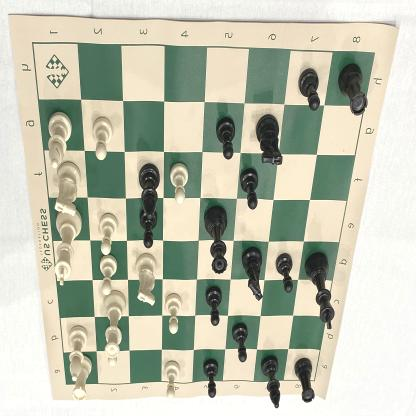black-bishop: (138, 163, 161, 221), (260, 355, 282, 412)
black-king: (305, 252, 336, 332)
black-knight: (256, 113, 284, 168), (242, 246, 264, 301)
black-pawn: (296, 66, 321, 112), (214, 115, 236, 161), (239, 166, 259, 212), (139, 206, 159, 251), (274, 252, 295, 294), (204, 286, 223, 328), (231, 323, 249, 364), (204, 357, 219, 400)
black-queen: (203, 205, 229, 278)
black-rook: (336, 62, 369, 118), (293, 356, 316, 405)
white-bishop: (45, 112, 73, 169), (66, 324, 88, 382)
white-king: (53, 206, 82, 288)
white-knight: (52, 162, 81, 216), (134, 252, 158, 306)
white-pawn: (90, 114, 114, 162), (98, 212, 119, 256), (98, 256, 119, 298), (164, 292, 183, 336), (170, 162, 189, 206), (163, 359, 181, 401), (104, 328, 122, 367)
white-queen: (98, 290, 128, 358)
white-rook: (71, 354, 93, 404)
